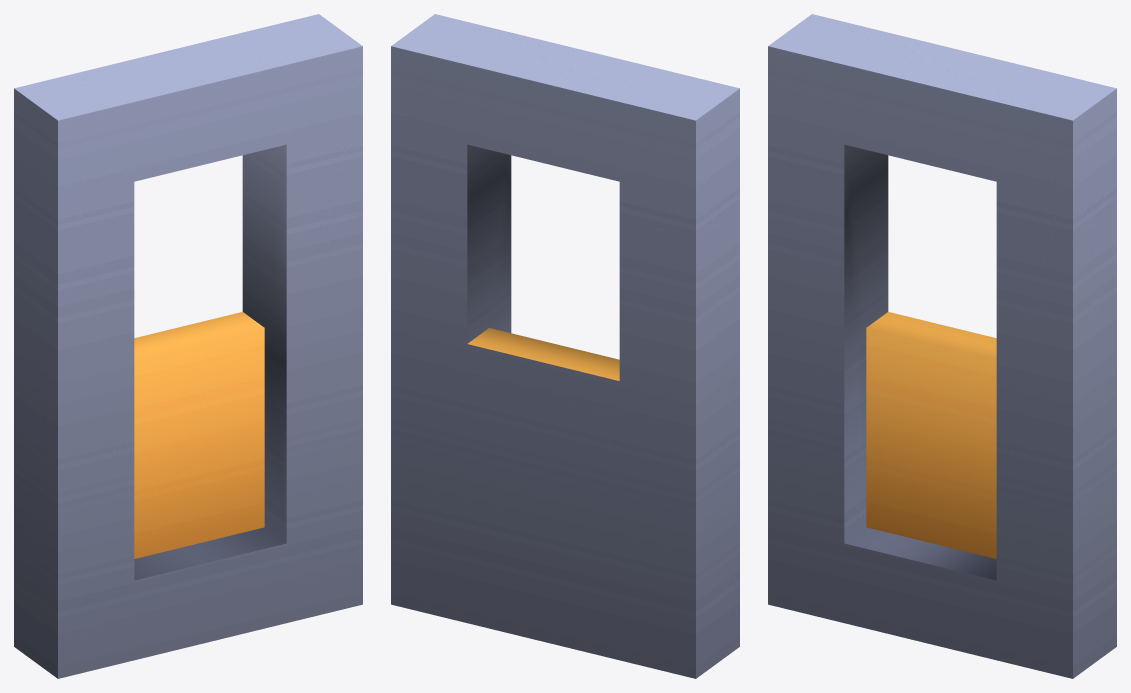
File: door-single-half.glb
3 renders of one model, left to right at view 1: azimuth 30°, elevation 25°; view 2: azimuth 150°, elevation 25°; view 3: azimuth 330°, elevation 25°, orthographic.
Parts seen in each view (by area): view 1: door-single-half; view 2: door-single-half; view 3: door-single-half.
Part boxes in pixels (x1,y1,x2,y2): door-single-half: (14, 14, 362, 678); door-single-half: (391, 14, 739, 678); door-single-half: (768, 14, 1116, 678).
Bounding box in the file's own units: 0.4 × 0.7 × 0.1.
Materials: 1 (1 with a texture image).
